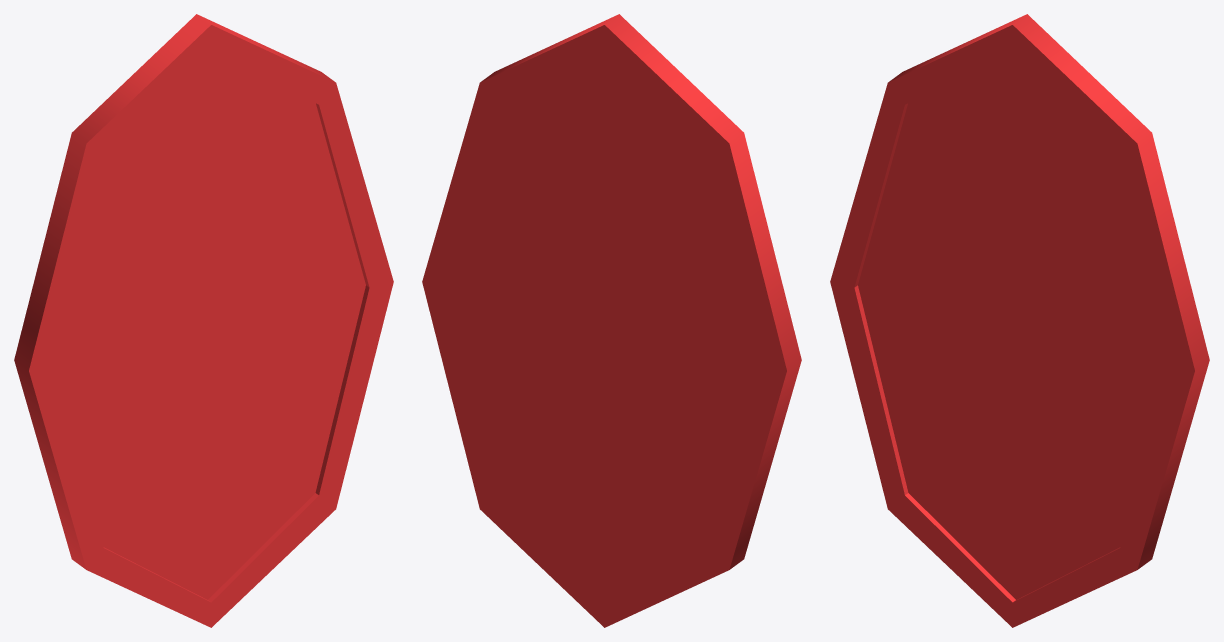
Rendered from Itr_Obj_Frame3_05.FBX.
3 renders of one model, left to right at view 1: azimuth 30°, elevation 25°; view 2: azimuth 150°, elevation 25°; view 3: azimuth 330°, elevation 25°, orthographic.
Visible parts, largest first — view 1: Itr_Obj_Frame3_05; view 2: Itr_Obj_Frame3_05; view 3: Itr_Obj_Frame3_05.
Part boxes in pixels (box(x1,y1,x2,y2)): Itr_Obj_Frame3_05: box(14, 14, 393, 627); Itr_Obj_Frame3_05: box(422, 14, 801, 627); Itr_Obj_Frame3_05: box(830, 14, 1209, 627).
Size of the model in its own units: 33.22 by 52.47 by 2.32.
